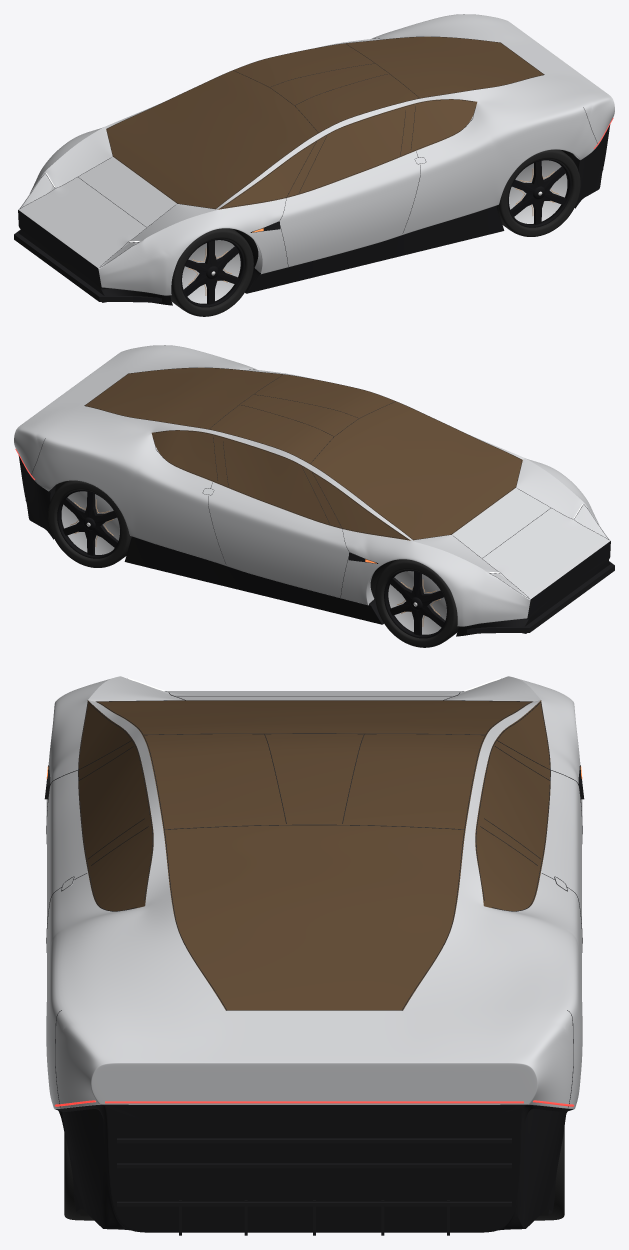
The model's file is wedge_car.glb.
3 renders of one model, top to bottom at view 1: azimuth 30°, elevation 25°; view 2: azimuth 150°, elevation 25°; view 3: azimuth 270°, elevation 25°, orthographic. The views are drawn at different scales.
Parts seen in each view (by area): view 1: Body, Tyre.001, Tyre.003, RimDisc.003, RimDisc.001, PanelLines_Top, Spokes.001, Spokes.003, FrontSplitter, PanelLines_Side, RimLip.001, RimLip.003; view 2: Body, Tyre.002, Tyre.004, RimDisc.004, RimDisc.002, PanelLines_Top, Spokes.002, Spokes.004, FrontSplitter, PanelLines_Side, RimLip.002, RimLip.004; view 3: Body, PanelLines_Top, DiffuserTier, DiffuserTier.001, DiffuserTier.002, PanelLines_Side, TailLamp, Tyre.004, Tyre.003.
Part boxes in pixels (bbox=[...]): Body: bbox=[18, 14, 614, 305]; Tyre.001: bbox=[170, 228, 253, 316]; Tyre.003: bbox=[498, 149, 580, 236]; RimDisc.003: bbox=[509, 160, 567, 223]; RimDisc.001: bbox=[182, 240, 240, 303]; PanelLines_Top: bbox=[19, 36, 544, 267]; Spokes.001: bbox=[184, 240, 239, 304]; Spokes.003: bbox=[510, 160, 566, 224]; FrontSplitter: bbox=[14, 229, 161, 302]; PanelLines_Side: bbox=[220, 38, 597, 266]; RimLip.001: bbox=[181, 238, 244, 307]; RimLip.003: bbox=[508, 159, 571, 227]; Body: bbox=[14, 345, 610, 636]; Tyre.002: bbox=[375, 559, 458, 647]; Tyre.004: bbox=[48, 480, 131, 567]; RimDisc.004: bbox=[61, 491, 119, 554]; RimDisc.002: bbox=[388, 571, 446, 634]; PanelLines_Top: bbox=[84, 367, 609, 598]; Spokes.002: bbox=[389, 571, 444, 635]; Spokes.004: bbox=[62, 491, 118, 555]; FrontSplitter: bbox=[467, 561, 614, 633]; PanelLines_Side: bbox=[31, 369, 408, 597]; RimLip.002: bbox=[384, 569, 447, 638]; RimLip.004: bbox=[57, 490, 120, 558]; Body: bbox=[46, 676, 582, 1232]; PanelLines_Top: bbox=[96, 691, 532, 1010]; DiffuserTier: bbox=[117, 1138, 511, 1143]; DiffuserTier.001: bbox=[117, 1163, 511, 1168]; DiffuserTier.002: bbox=[117, 1201, 511, 1206]; PanelLines_Side: bbox=[46, 702, 582, 1107]; TailLamp: bbox=[54, 1100, 574, 1106]; Tyre.004: bbox=[535, 1127, 564, 1220]; Tyre.003: bbox=[64, 1133, 93, 1220].
Bounding box in the file's own units: 4.77 × 1.34 × 2.21.
